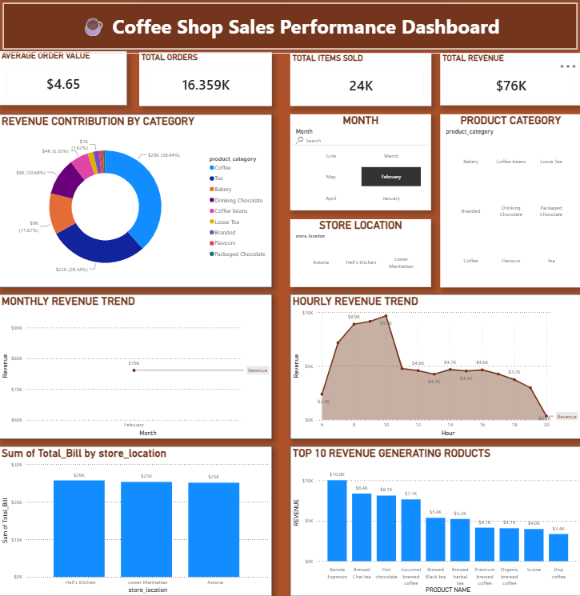

Layout of this report page (visuals, bound fields, positions):
{"tool":"powerbi","page":{"name":"Page 1","canvas":[1366,1400],"ordinal":0},"visuals":[{"type":"cardVisual","title":"TOTAL REVENUE","fields":{"Data":["Sum(coffee_shop_sales_cleaned.Total_Bill)"]},"box":[1034.3,125.7,331.2,122.3],"z":0},{"type":"cardVisual","title":"TOTAL ITEMS SOLD","fields":{"Data":["Sum(coffee_shop_sales_cleaned.transaction_qty)"]},"box":[682.7,125.7,331.2,124],"z":1000},{"type":"cardVisual","title":"TOTAL ORDERS ","fields":{"Data":["CountNonNull(coffee_shop_sales_cleaned.transaction_id)"]},"box":[328.1,123.6,311.5,126],"z":2000},{"type":"lineChart","title":"MONTHLY REVENUE TREND","fields":{"Category":["coffee_shop_sales_cleaned.Month"],"Y":["Sum(coffee_shop_sales_cleaned.Total_Bill)"]},"box":[0,691.9,639.6,340],"z":3000},{"type":"lineChart","title":"HOURLY REVENUE TREND","fields":{"Category":["coffee_shop_sales_cleaned.Hour"],"Y":["Sum(coffee_shop_sales_cleaned.Total_Bill)"]},"box":[682.4,691.9,682.4,340],"z":4000},{"type":"clusteredColumnChart","fields":{"Category":["coffee_shop_sales_cleaned.store_location"],"Y":["Sum(coffee_shop_sales_cleaned.Total_Bill)"]},"box":[0,1048.6,639.6,351.9],"z":5000},{"type":"cardVisual","title":"AVERAGE ORDER VALUE","fields":{"Data":["coffee_shop_sales_cleaned.AVERAGE ORDER VALUE"]},"box":[0,121.3,299.6,126],"z":6000},{"type":"clusteredColumnChart","title":"TOP 10 REVENUE GENERATING RODUCTS","fields":{"Category":["coffee_shop_sales_cleaned.product_type"],"Y":["Sum(coffee_shop_sales_cleaned.Total_Bill)"]},"box":[682.4,1048.6,682.4,351.9],"z":8000},{"type":"donutChart","title":"REVENUE CONTRIBUTION BY CATEGORY","fields":{"Category":["coffee_shop_sales_cleaned.product_category"],"Y":["Sum(coffee_shop_sales_cleaned.Total_Bill)"]},"box":[0,268.7,639.6,406.6],"z":9000},{"type":"slicer","title":"MONTH","fields":{"Values":["coffee_shop_sales_cleaned.Month"]},"box":[682.6,269.8,330.8,225.2],"z":10000},{"type":"slicer","title":"PRODUCT CATEGORY","fields":{"Values":["coffee_shop_sales_cleaned.product_category"]},"box":[1034.3,268.7,330.5,406.6],"z":11000},{"type":"slicer","title":"STORE LOCATION","fields":{"Values":["coffee_shop_sales_cleaned.store_location"]},"box":[682.6,516.1,330.8,159.5],"z":12000},{"type":"actionButton","box":[0,0,1364.8,126],"z":13000}]}

Visuals, with their boxes in screenshot pixels (x1, y1, x2, y2), scaled from the page's 1366x1400 canvas onto the 580x596 screenshot:
"TOTAL REVENUE" cardVisual: x1=439, y1=54, x2=579, y2=106
"TOTAL ITEMS SOLD" cardVisual: x1=290, y1=54, x2=430, y2=106
"TOTAL ORDERS " cardVisual: x1=139, y1=53, x2=272, y2=106
"MONTHLY REVENUE TREND" lineChart: x1=0, y1=295, x2=272, y2=439
"HOURLY REVENUE TREND" lineChart: x1=290, y1=295, x2=579, y2=439
clusteredColumnChart - coffee_shop_sales_cleaned.store_location x Sum(coffee_shop_sales_cleaned.Total_Bill): x1=0, y1=446, x2=272, y2=595
"AVERAGE ORDER VALUE" cardVisual: x1=0, y1=52, x2=127, y2=105
"TOP 10 REVENUE GENERATING RODUCTS" clusteredColumnChart: x1=290, y1=446, x2=579, y2=595
"REVENUE CONTRIBUTION BY CATEGORY" donutChart: x1=0, y1=114, x2=272, y2=287
"MONTH" slicer: x1=290, y1=115, x2=430, y2=211
"PRODUCT CATEGORY" slicer: x1=439, y1=114, x2=579, y2=287
"STORE LOCATION" slicer: x1=290, y1=220, x2=430, y2=288
actionButton: x1=0, y1=0, x2=579, y2=54
